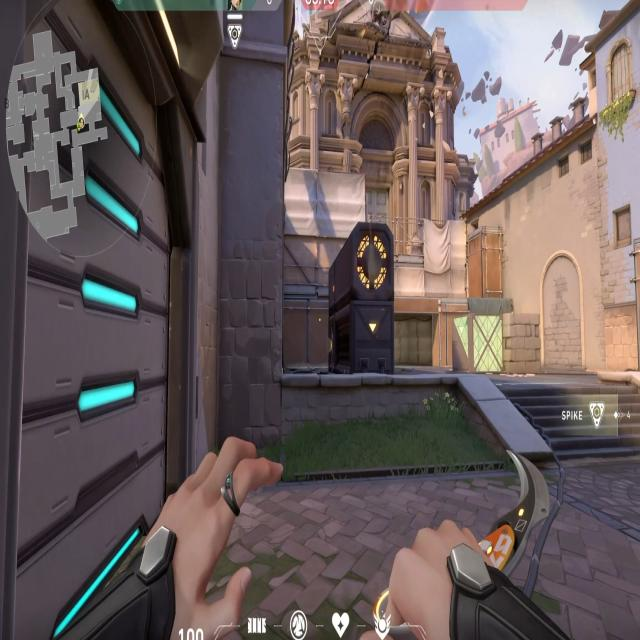A_Door: (0, 0, 202, 639)
A_Heaven_Box: (464, 225, 507, 304)
A_Heaven_Wall: (284, 170, 365, 310)
A_Site_Box: (452, 311, 546, 383)
